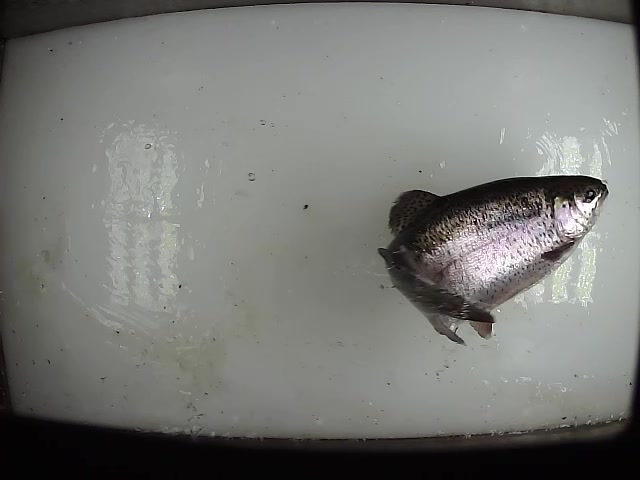fish: (375, 172, 613, 347)
